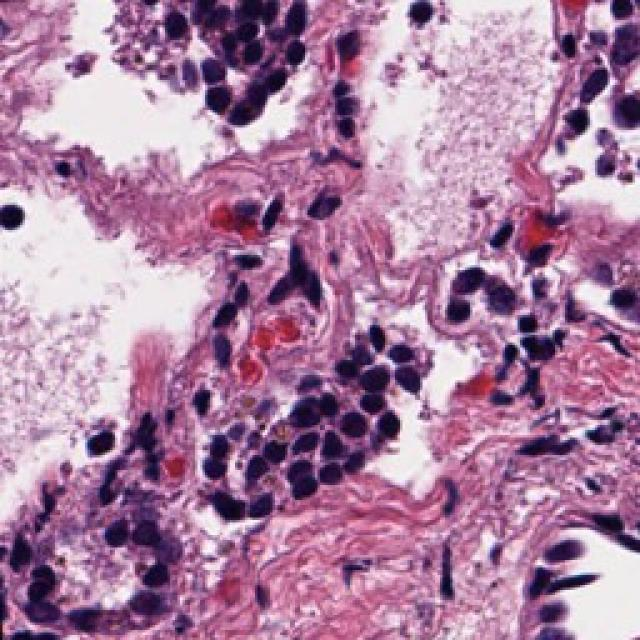normal: (122, 499, 187, 557), (247, 416, 298, 481), (93, 506, 142, 570), (433, 279, 487, 335), (320, 397, 371, 455), (574, 51, 621, 113), (18, 562, 68, 619), (356, 355, 404, 408), (372, 396, 411, 458), (237, 485, 288, 532), (189, 443, 234, 489), (195, 43, 234, 93), (283, 464, 318, 516)
